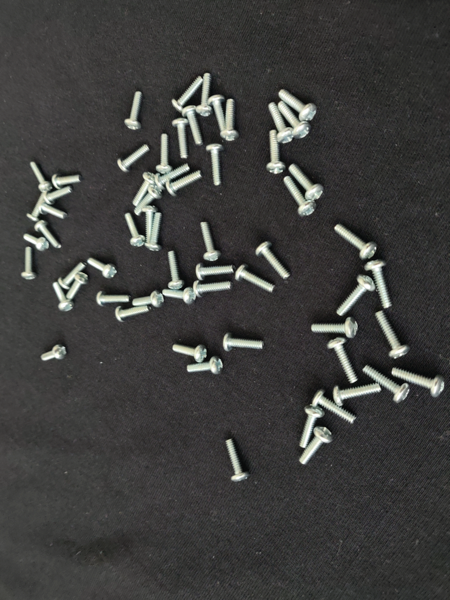shortscrew: (364, 365, 409, 404), (312, 388, 357, 425), (391, 368, 446, 398), (337, 275, 376, 317), (335, 224, 378, 261), (376, 311, 409, 359), (299, 426, 334, 467), (328, 337, 358, 384), (284, 176, 318, 217), (289, 164, 325, 202), (256, 242, 291, 280), (279, 89, 319, 122), (365, 259, 391, 309), (278, 102, 312, 139), (333, 383, 382, 408), (236, 265, 277, 294), (171, 77, 204, 113), (299, 404, 325, 449), (224, 438, 249, 483), (269, 103, 294, 143), (199, 222, 223, 262), (166, 171, 203, 196), (118, 145, 151, 173), (182, 106, 204, 147), (156, 164, 192, 189), (312, 318, 359, 337), (58, 262, 88, 290), (267, 130, 286, 174), (34, 220, 62, 249), (135, 185, 162, 215), (125, 92, 145, 131), (224, 334, 264, 353), (124, 212, 145, 248), (206, 144, 224, 186), (197, 73, 214, 117), (172, 118, 190, 159), (221, 99, 238, 141), (196, 264, 235, 282), (66, 271, 90, 300), (134, 173, 155, 206), (52, 282, 75, 312), (194, 280, 232, 298), (86, 258, 118, 279), (157, 134, 173, 175), (173, 344, 207, 363), (163, 286, 197, 305), (115, 305, 150, 323), (187, 357, 224, 374), (27, 191, 47, 222), (168, 251, 184, 289), (133, 290, 164, 309), (97, 291, 131, 308), (21, 247, 38, 281), (208, 96, 225, 130), (31, 162, 50, 192), (39, 201, 68, 220), (23, 232, 50, 252), (45, 187, 73, 205), (41, 344, 68, 362), (52, 173, 82, 189)
